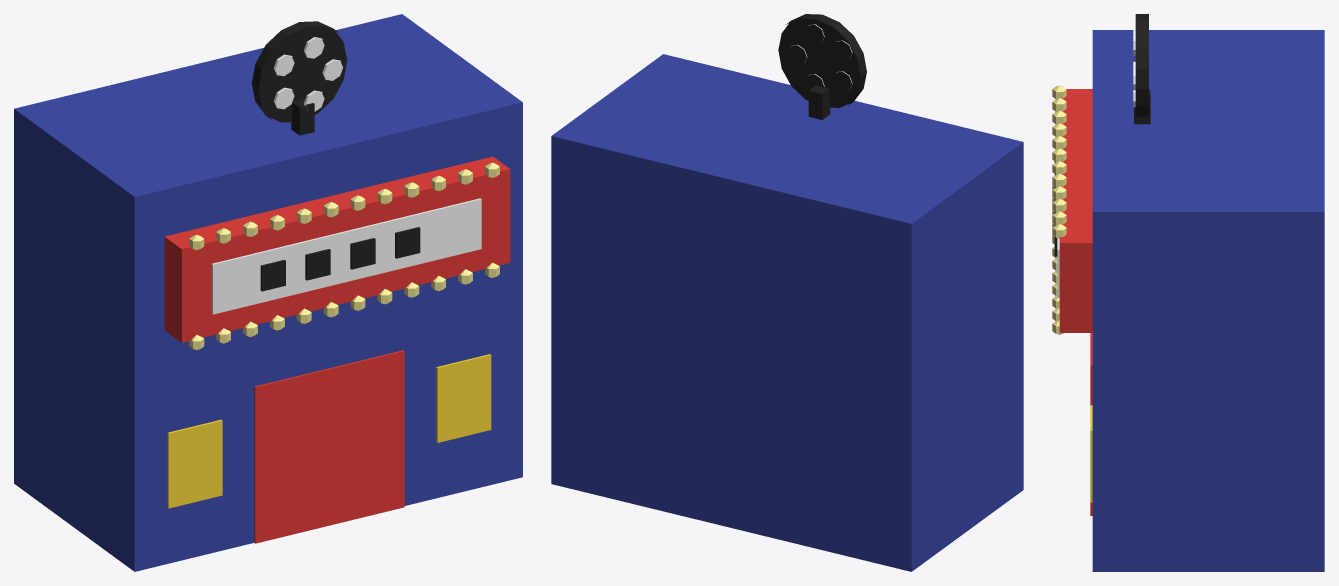
The model's file is biograf.glb.
The picture shows the model from 3 angles, left to right: view 1: azimuth 30°, elevation 25°; view 2: azimuth 150°, elevation 25°; view 3: azimuth 270°, elevation 25°; orthographic projection. The views are drawn at different scales.
Parts seen in each view (by area): view 1: biograf; view 2: biograf; view 3: biograf.
Part boxes in pixels (box(x1,y1,x2,y2)): biograf: box(14, 14, 522, 571); biograf: box(551, 14, 1023, 571); biograf: box(1052, 14, 1324, 571).
Bounding box in the file's own units: 1.3 × 1.54 × 0.8216.
